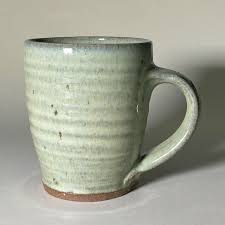mug: (16, 32, 208, 203)
